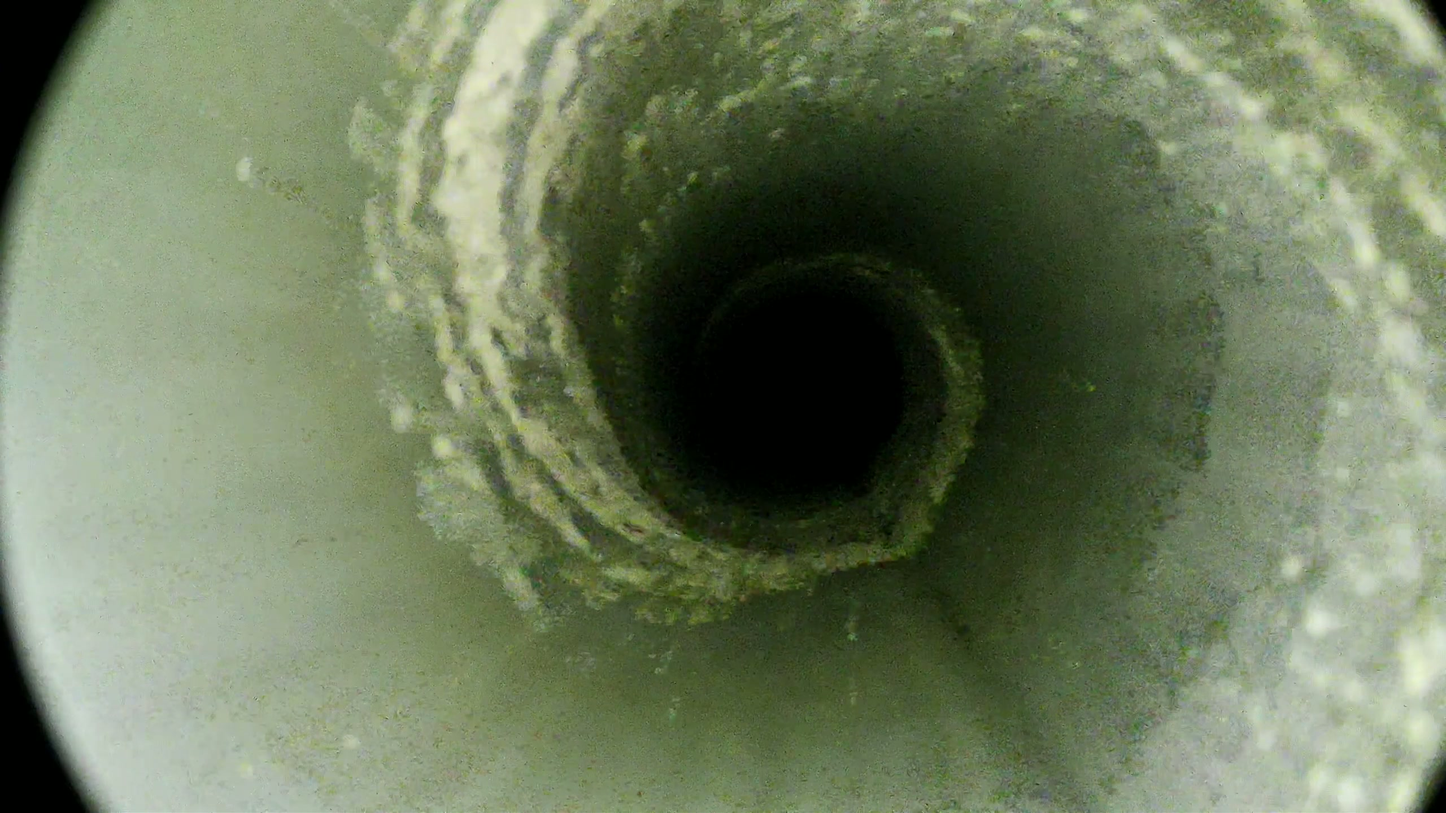hole: (717, 296, 903, 481)
